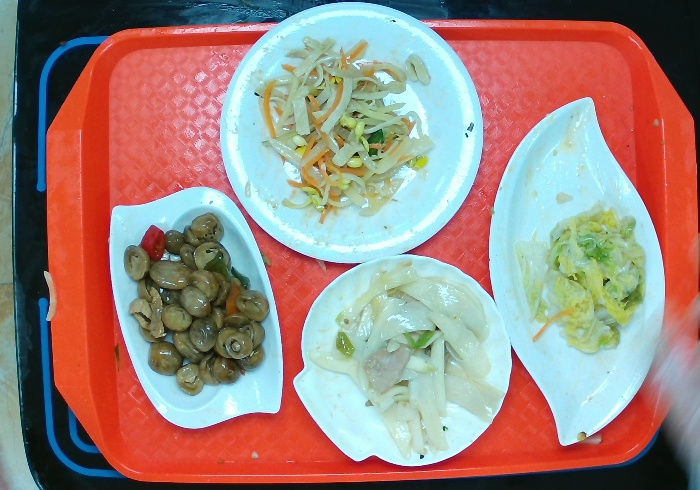RJxy-Bei_Ke_Wan: (288, 255, 514, 464)
RJxy-Jian_Jiao_Fang_Die: (104, 185, 287, 431)
RJxy-Jian_Jiao_Pan: (485, 93, 666, 450)
RJxy-Yuan_Pan: (219, 3, 483, 264)
